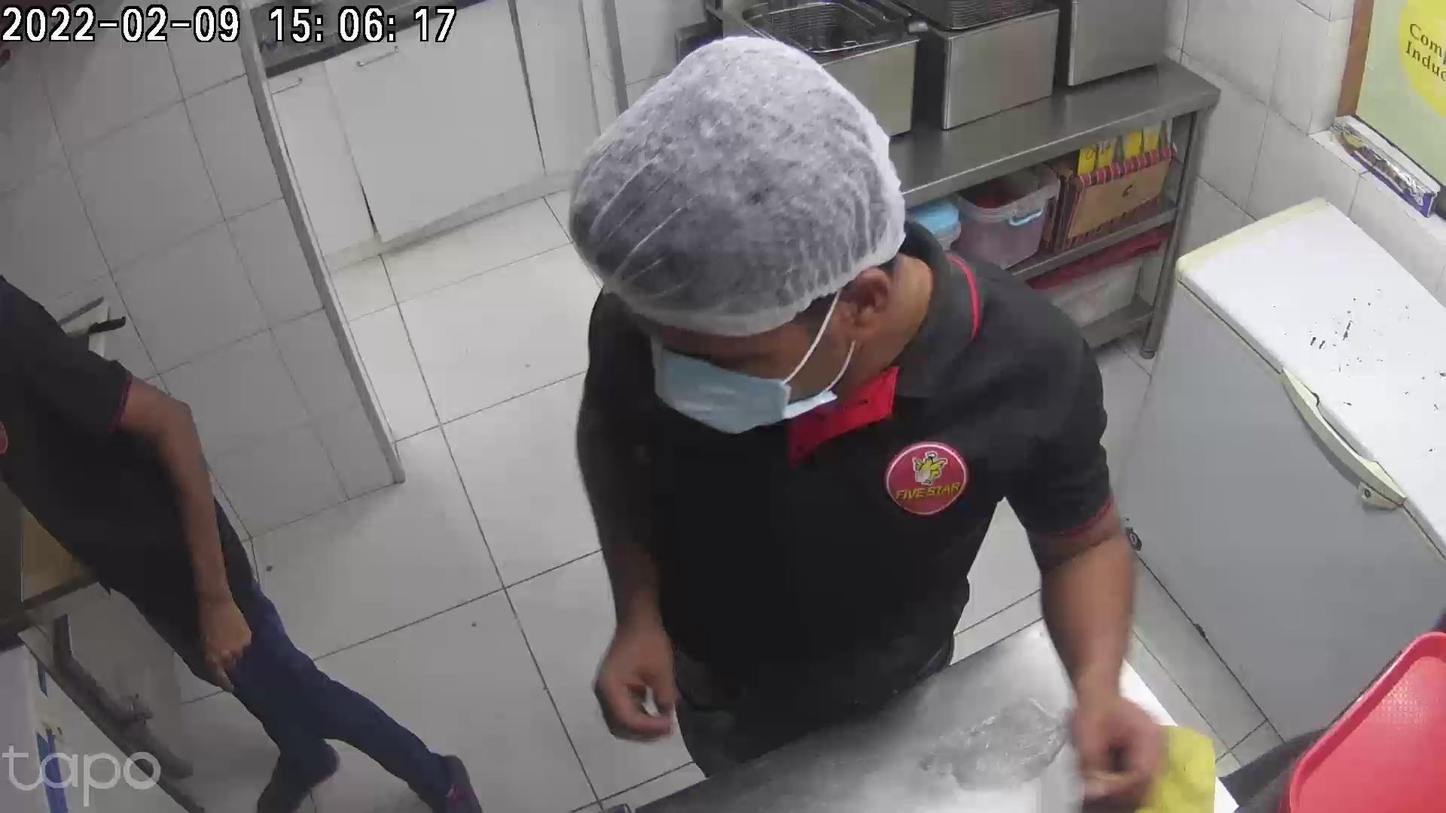no_gloves: (194, 561, 252, 682)
